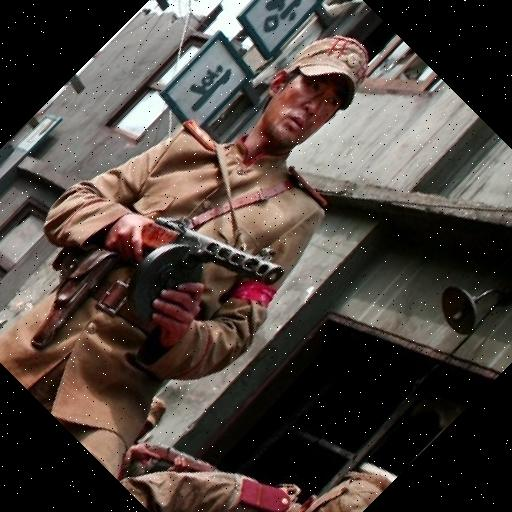north army: (123, 21, 373, 432)
